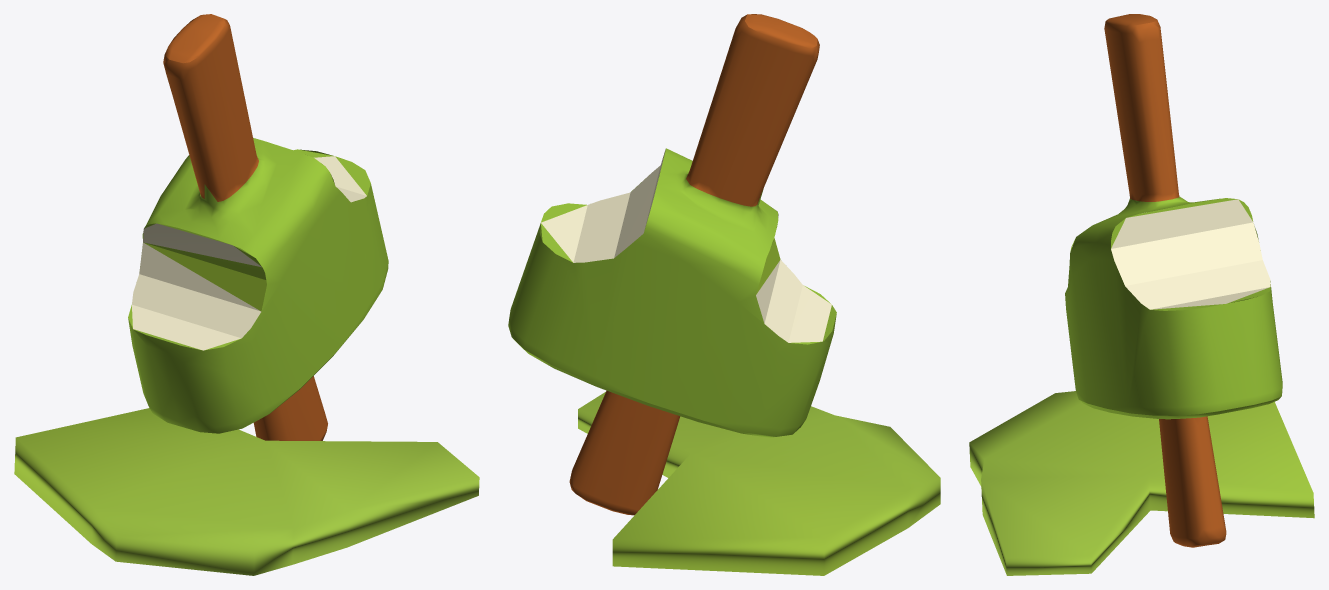
The model's file is gelato_sciolto_verde_LOD1.fbx.
The picture shows the model from 3 angles, left to right: view 1: azimuth 30°, elevation 25°; view 2: azimuth 150°, elevation 25°; view 3: azimuth 270°, elevation 25°; orthographic projection. The views are drawn at different scales.
Parts seen in each view (by area): view 1: Cube_068; view 2: Cube_068; view 3: Cube_068.
Boxes of the visible parts, x1,y1,x2,y2 form: Cube_068: (14,14,479,575); Cube_068: (508,14,940,575); Cube_068: (969,14,1314,575).
Bounding box in the file's own units: 26.99 × 37.1 × 24.38.
Materials: 2 (2 with a texture image).
